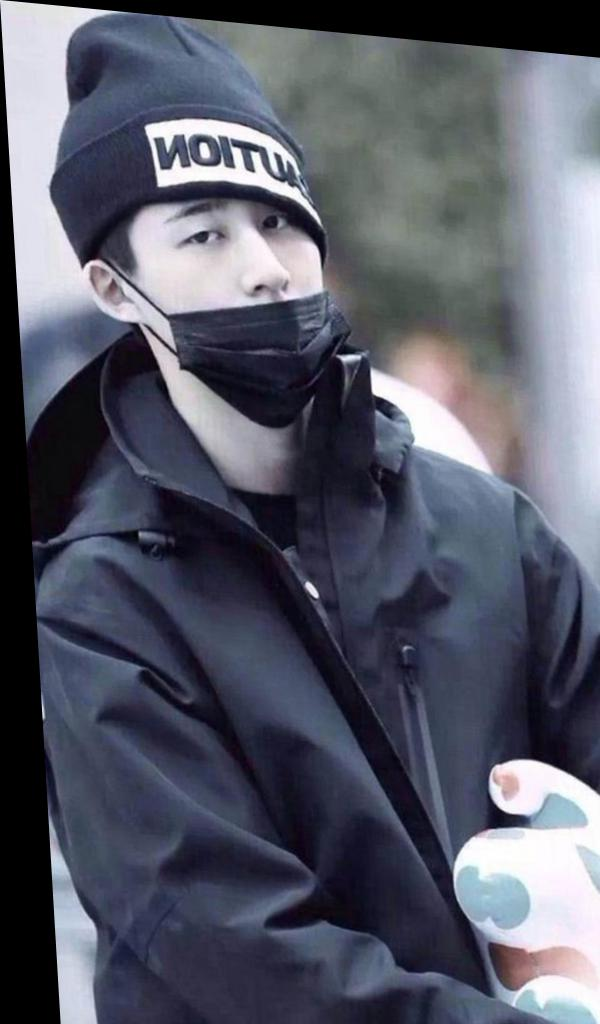WRONG: (106, 169, 342, 411)
